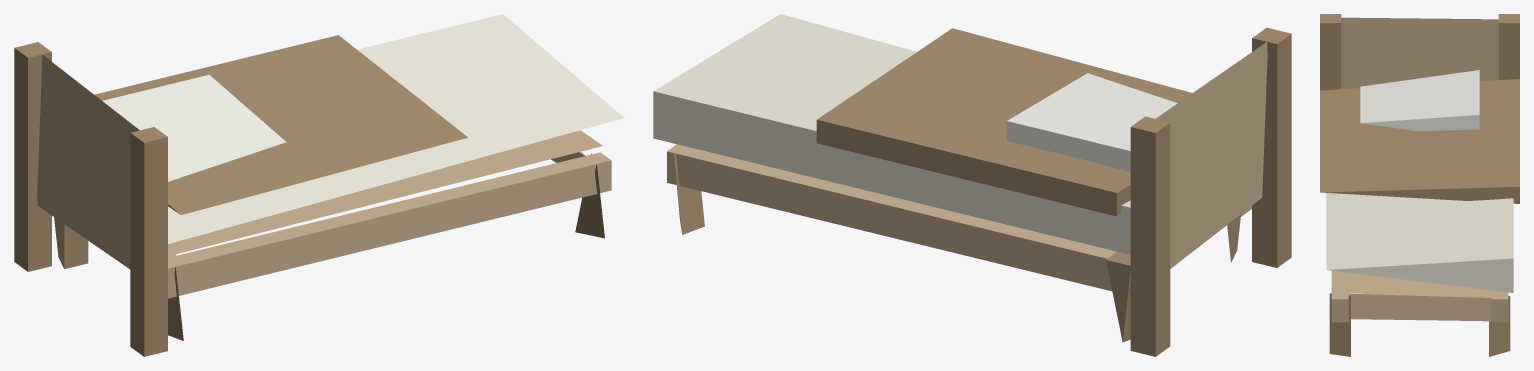
Rendered from 18-Casas_cama_basica.glb.
The picture shows the model from 3 angles, left to right: view 1: azimuth 30°, elevation 25°; view 2: azimuth 150°, elevation 25°; view 3: azimuth 270°, elevation 25°; orthographic projection. The views are drawn at different scales.
Visible parts, largest first — view 1: SM_Cama_M_Mueble_Madera_Clara, SM_Cama_M_Mueble_Tela_Crema, SM_Cama_M_Mueble_Tela_Roja, SM_Cama_M_Mueble_Madera_Oscura, SM_Cama_M_Mueble_Lino; view 2: SM_Cama_M_Mueble_Tela_Crema, SM_Cama_M_Mueble_Madera_Clara, SM_Cama_M_Mueble_Tela_Roja, SM_Cama_M_Mueble_Madera_Oscura, SM_Cama_M_Mueble_Lino; view 3: SM_Cama_M_Mueble_Tela_Roja, SM_Cama_M_Mueble_Madera_Clara, SM_Cama_M_Mueble_Tela_Crema, SM_Cama_M_Mueble_Lino, SM_Cama_M_Mueble_Madera_Oscura.
Boxes of the visible parts, box(x1,y1,x2,y2) form: SM_Cama_M_Mueble_Madera_Clara: box(37, 54, 611, 298); SM_Cama_M_Mueble_Tela_Crema: box(168, 14, 623, 243); SM_Cama_M_Mueble_Tela_Roja: box(94, 35, 467, 214); SM_Cama_M_Mueble_Madera_Oscura: box(14, 42, 604, 356); SM_Cama_M_Mueble_Lino: box(102, 75, 286, 181); SM_Cama_M_Mueble_Tela_Crema: box(653, 14, 1130, 254); SM_Cama_M_Mueble_Madera_Clara: box(667, 42, 1267, 295); SM_Cama_M_Mueble_Tela_Roja: box(816, 28, 1192, 216); SM_Cama_M_Mueble_Madera_Oscura: box(674, 27, 1291, 356); SM_Cama_M_Mueble_Lino: box(1006, 73, 1177, 172); SM_Cama_M_Mueble_Tela_Roja: box(1320, 79, 1519, 203); SM_Cama_M_Mueble_Madera_Clara: box(1331, 17, 1508, 322); SM_Cama_M_Mueble_Tela_Crema: box(1326, 193, 1513, 292); SM_Cama_M_Mueble_Lino: box(1360, 70, 1479, 131); SM_Cama_M_Mueble_Madera_Oscura: box(1320, 14, 1519, 356).
Size of the model in its own units: 2.02 by 0.855 by 0.94.
